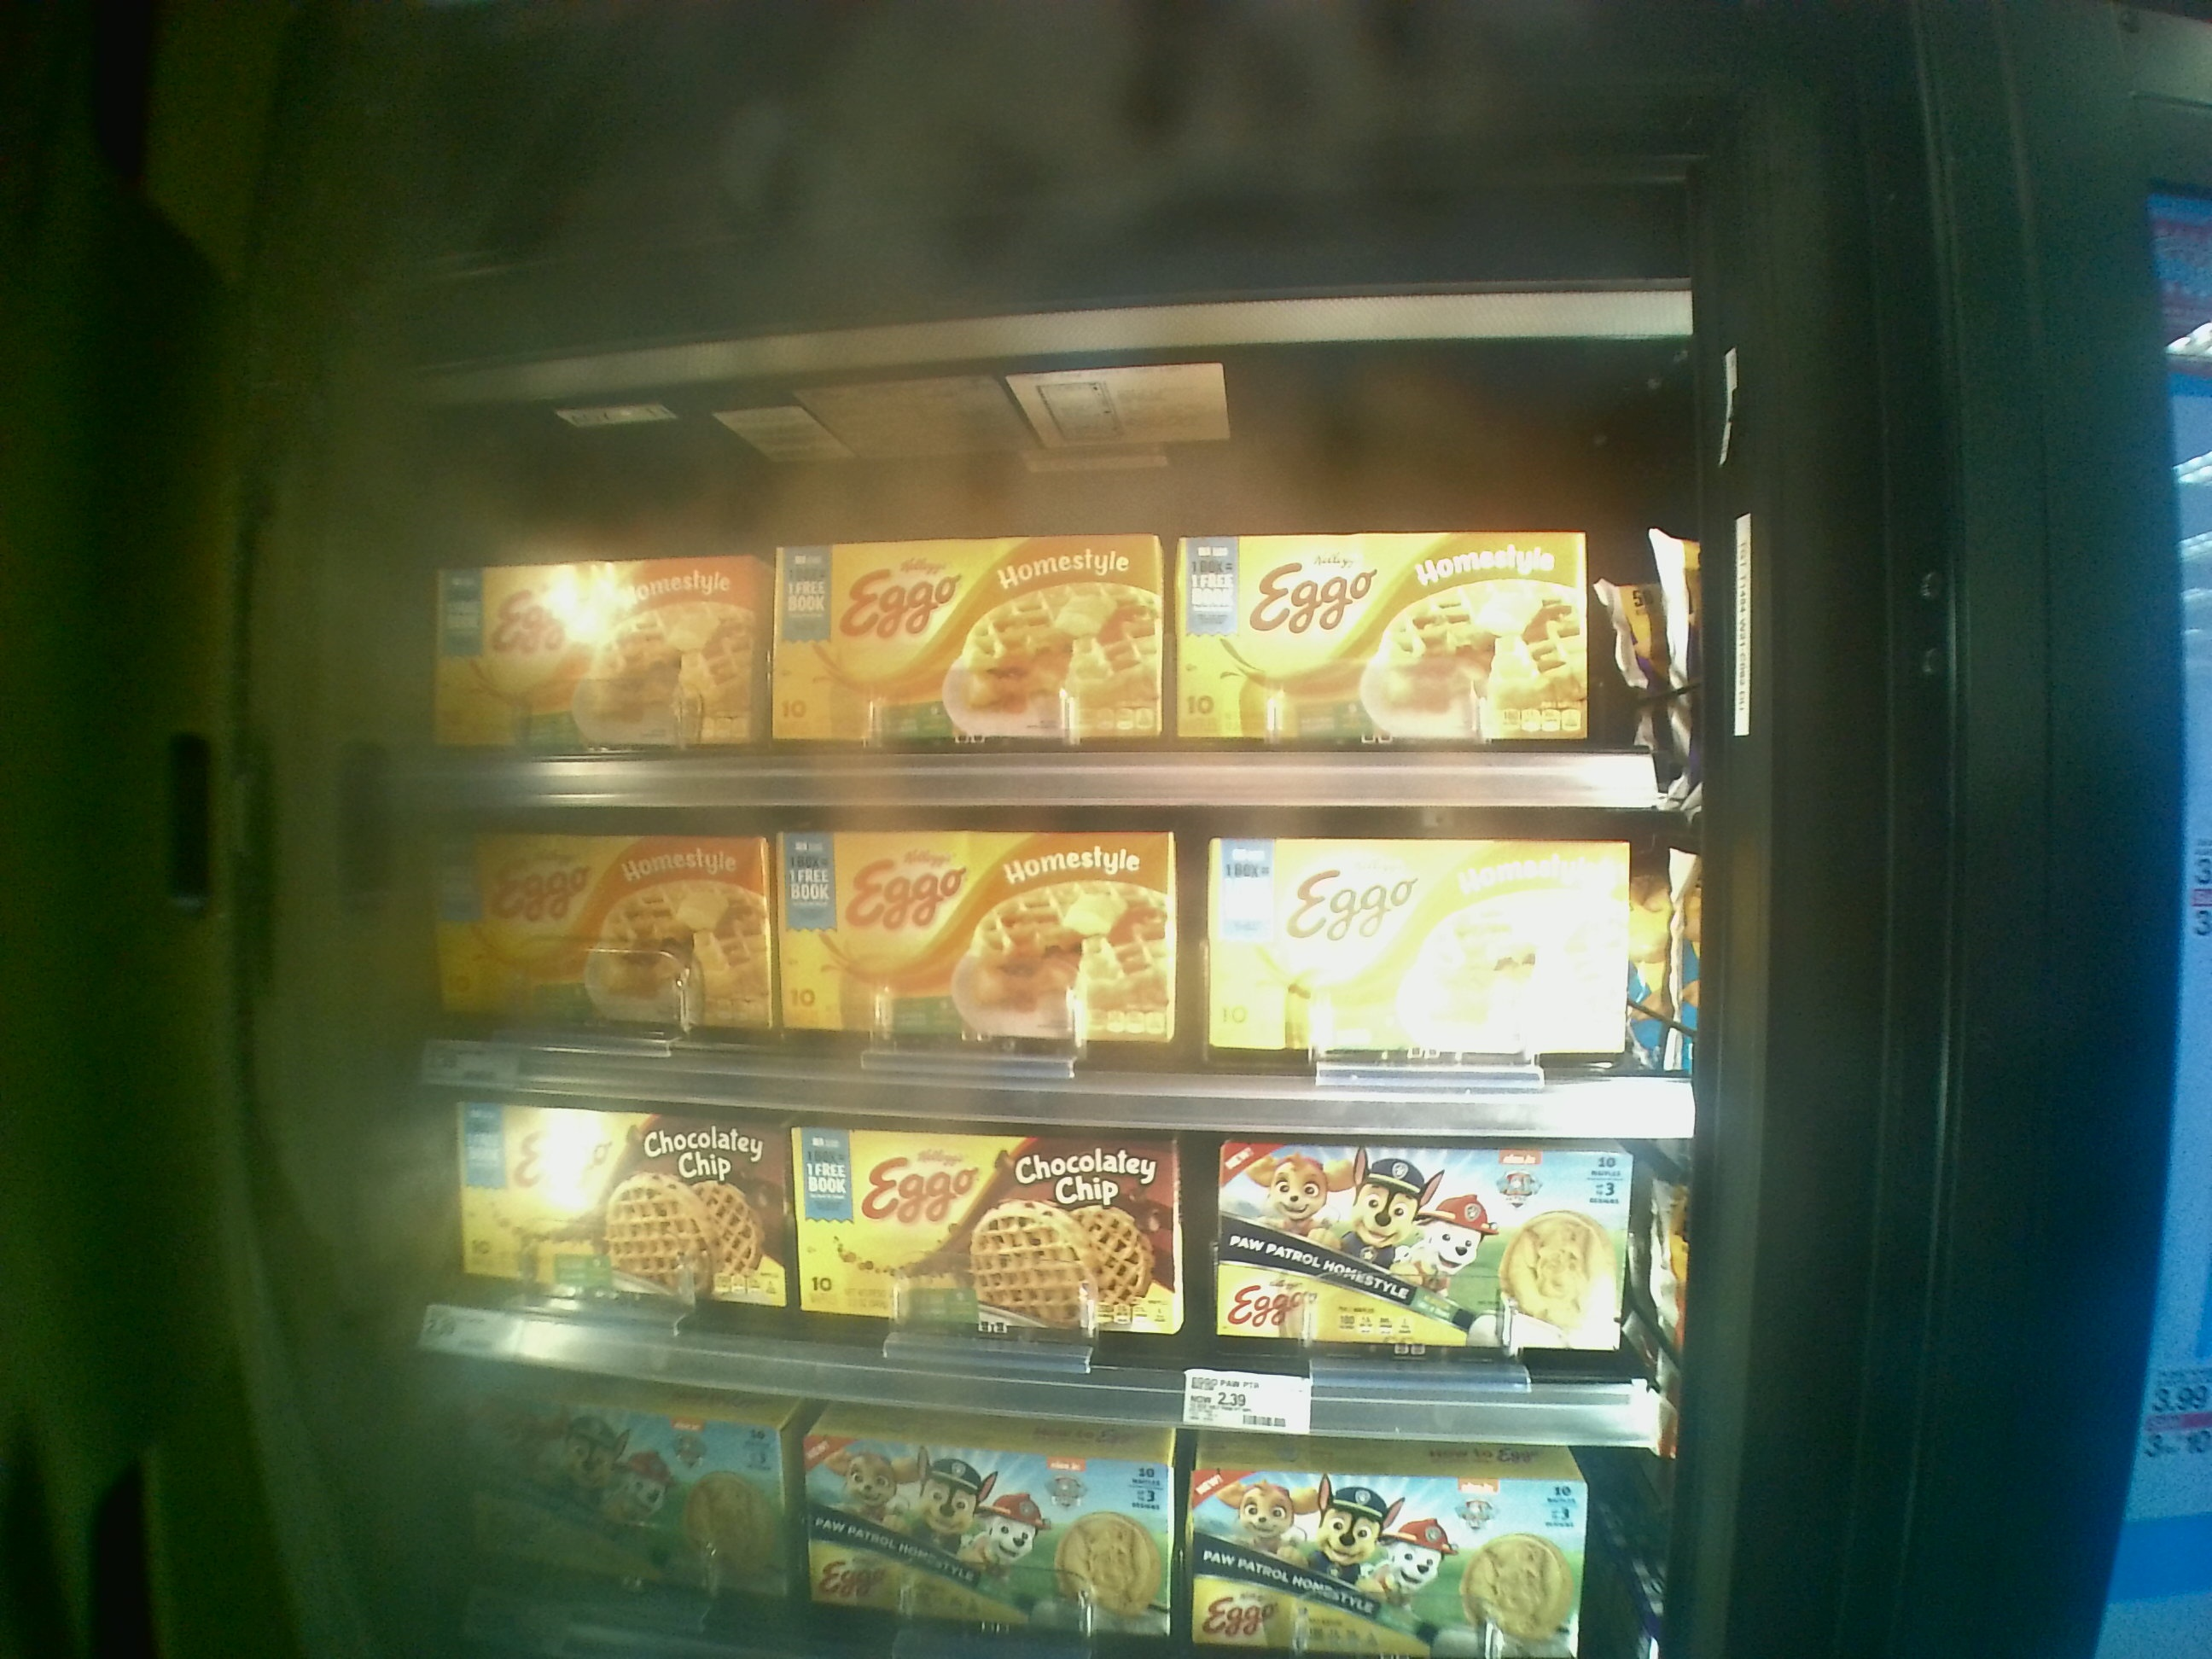shelf: (394, 788, 1731, 1148)
